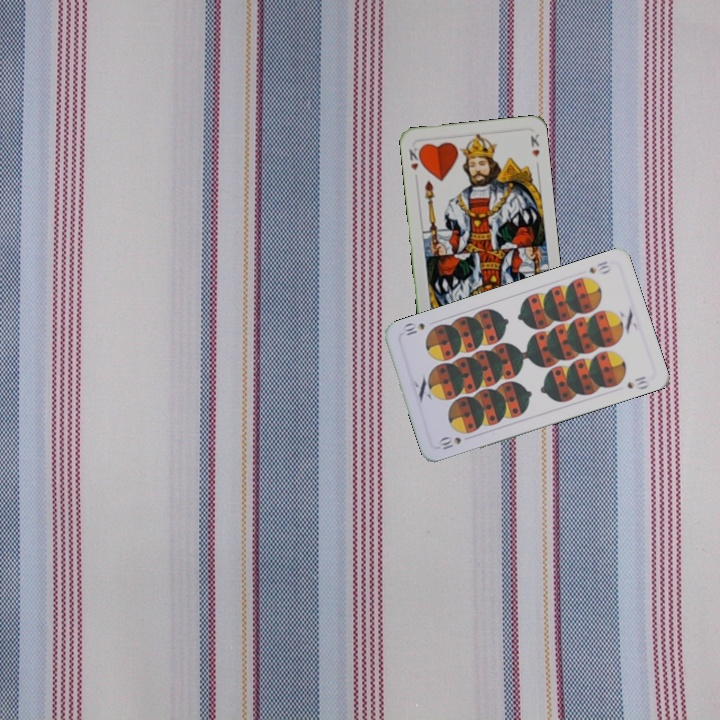HK: (405, 144, 425, 173)
S10: (584, 257, 614, 276), (435, 433, 464, 452)
